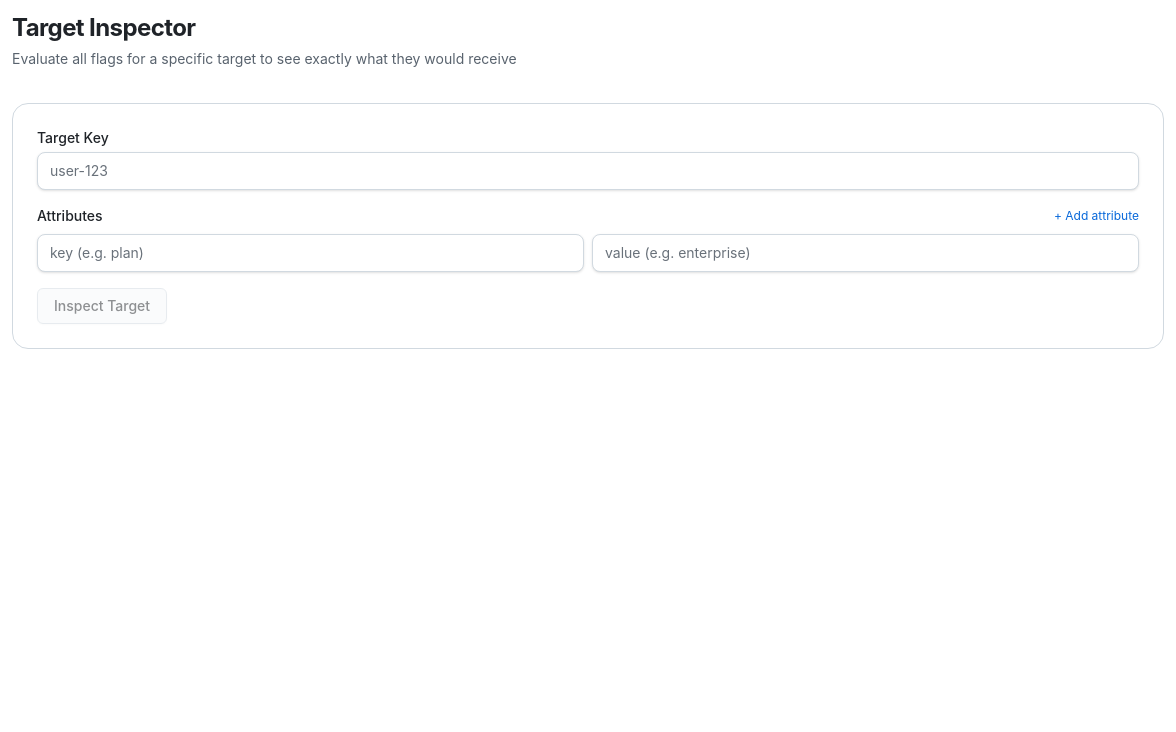
it: TargetInspectorPage › search filter on results
Type "user-abc" into the field with placeholder "user-123".
click(588, 171); type("user-abc")  # box [37,152,1139,190]
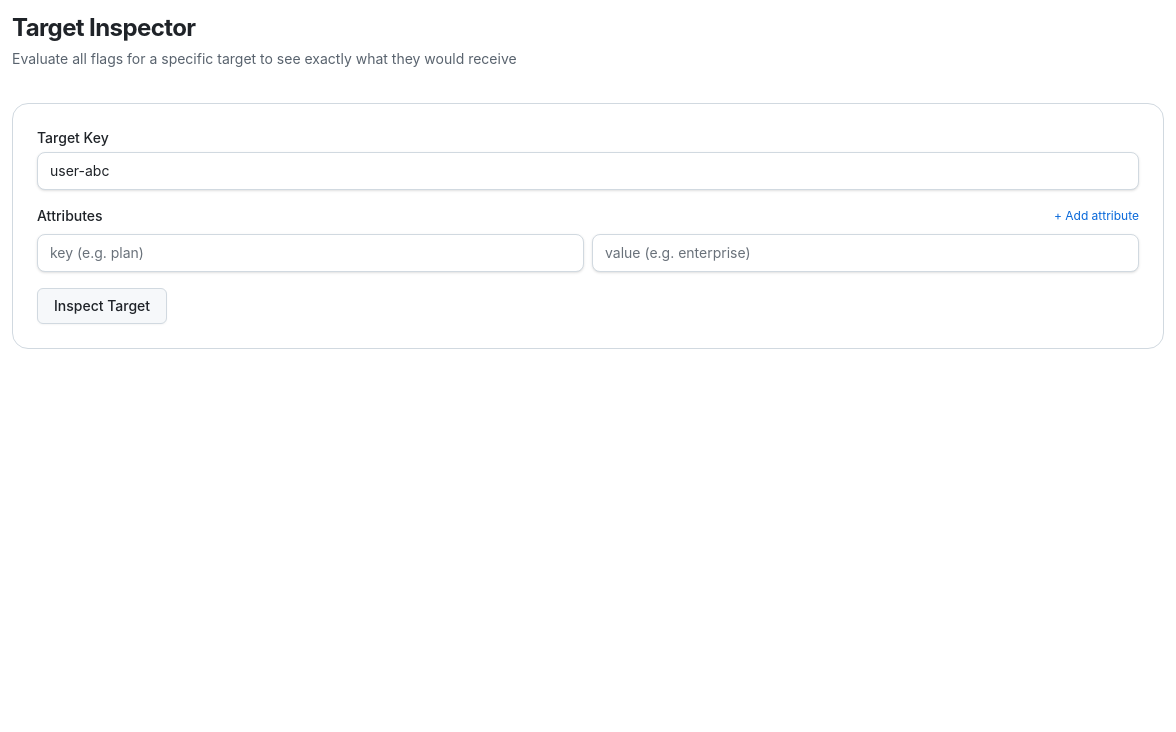
Submit the text "Inspect Target", box [12,103,1164,349]
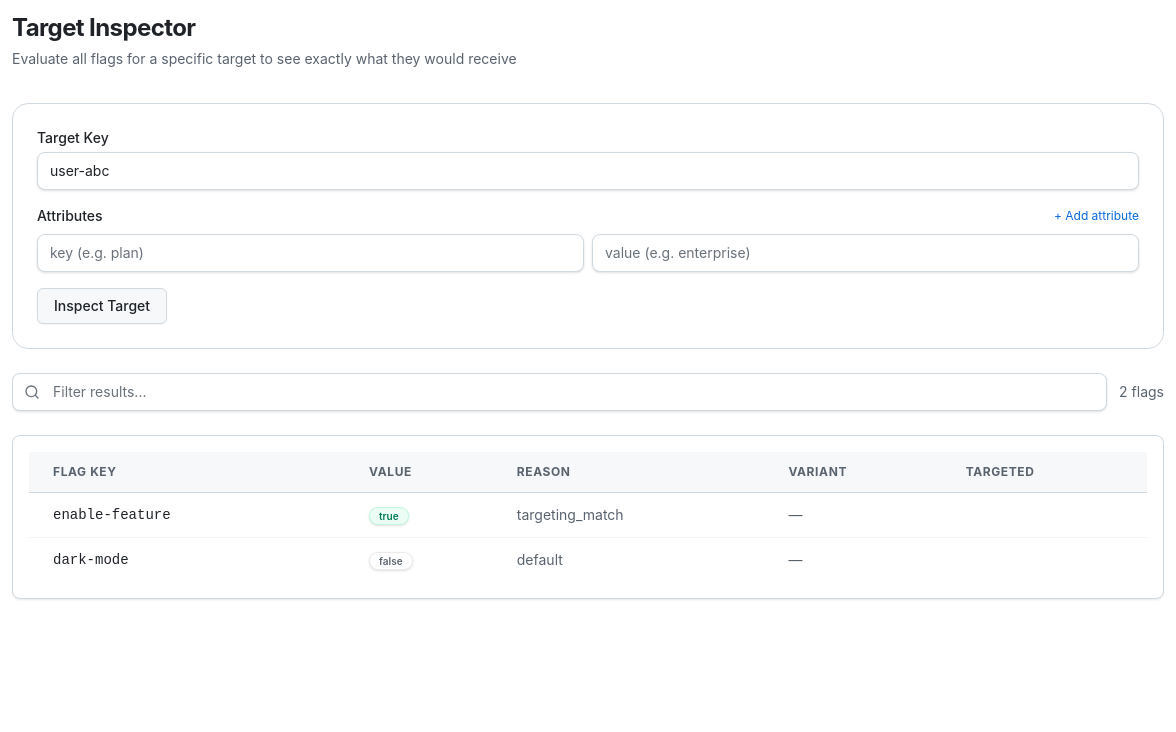
Expected: the text "enable-feature" is shown, [29,492,353,538]
Type "dark" into the field with placeholder "Filter results...".
click(560, 392); type("dark")  # box [12,373,1107,411]
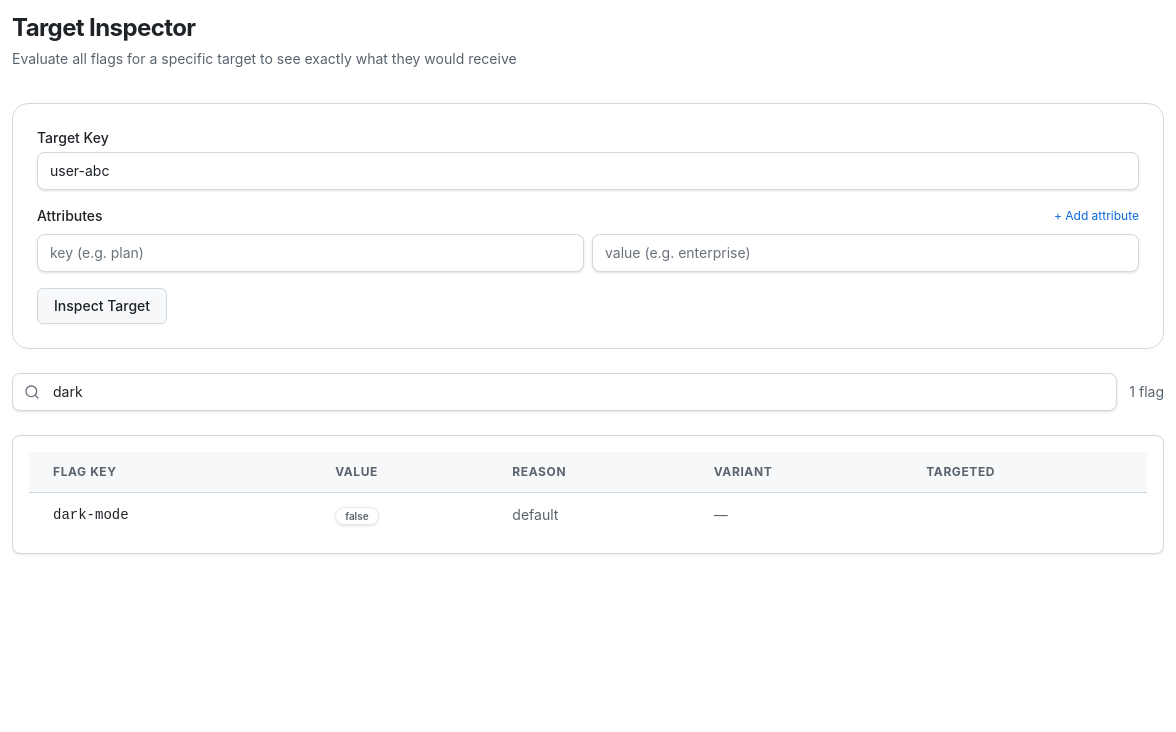
Expected: the text "dark-mode" is shown, [29,492,319,537]
Expected: the text "enable-feature" is gone
